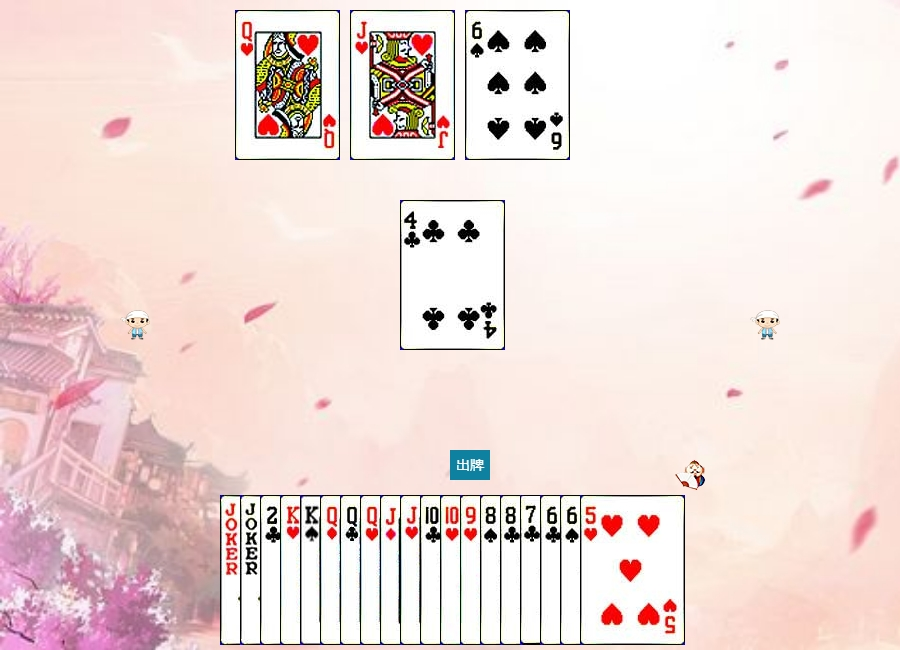10~2: (420, 495, 525, 645)
10~3: (440, 495, 545, 645)
11~1: (380, 495, 485, 645)
11~3: (350, 10, 455, 160), (400, 495, 505, 645)
12~1: (320, 495, 425, 645)
12~2: (340, 495, 445, 645)
12~3: (235, 10, 340, 160), (360, 495, 465, 645)
13~3: (280, 495, 385, 645)
13~4: (300, 495, 405, 645)
15~2: (260, 495, 365, 645)
17~3: (240, 495, 345, 645)
18~4: (220, 495, 325, 645)
4~2: (400, 200, 505, 350)
5~3: (580, 495, 685, 645)
6~2: (540, 495, 645, 645)
6~4: (465, 10, 570, 160), (560, 495, 665, 645)
7~2: (520, 495, 625, 645)
8~2: (500, 495, 605, 645)
8~4: (480, 495, 585, 645)
9~3: (460, 495, 565, 645)
